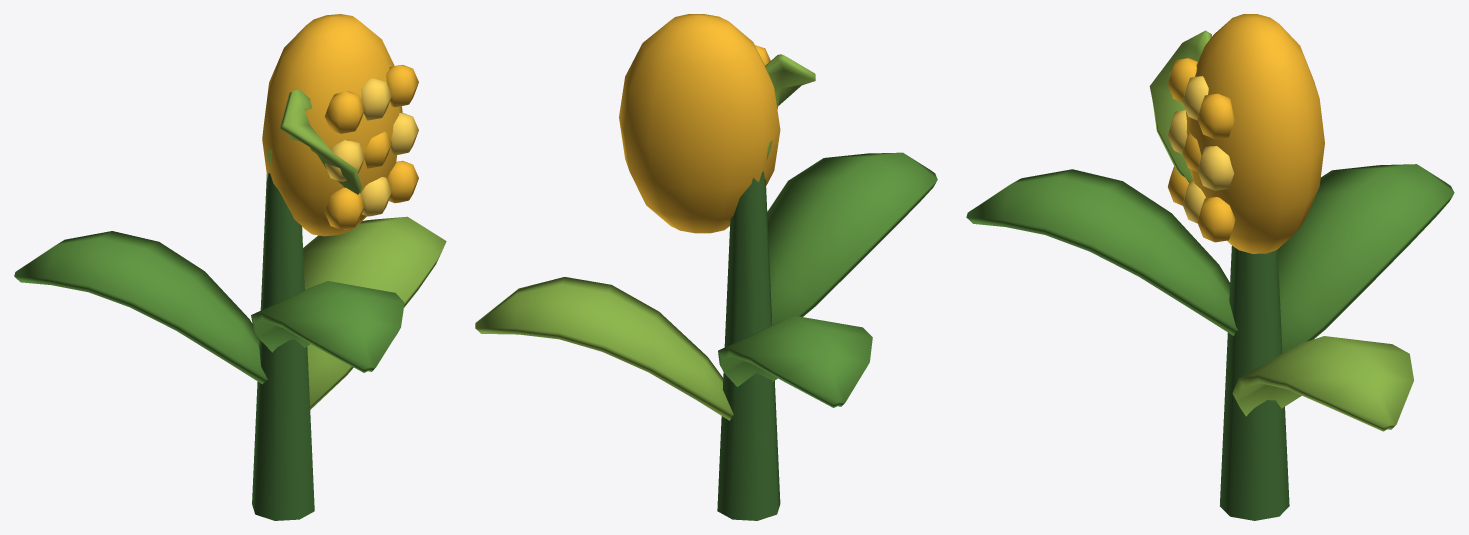
File: Corn_Planted.fbx
3 renders of one model, left to right at view 1: azimuth 30°, elevation 25°; view 2: azimuth 150°, elevation 25°; view 3: azimuth 270°, elevation 25°, orthographic. The views are drawn at different scales.
Parts seen in each view (by area): view 1: Body; view 2: Body; view 3: Body.
Part boxes in pixels (box(x1,y1,x2,y2)): Body: box(14, 14, 446, 520); Body: box(475, 14, 937, 520); Body: box(966, 14, 1454, 520).
Size of the model in its own units: 0.3787 by 0.4382 by 0.3778.
